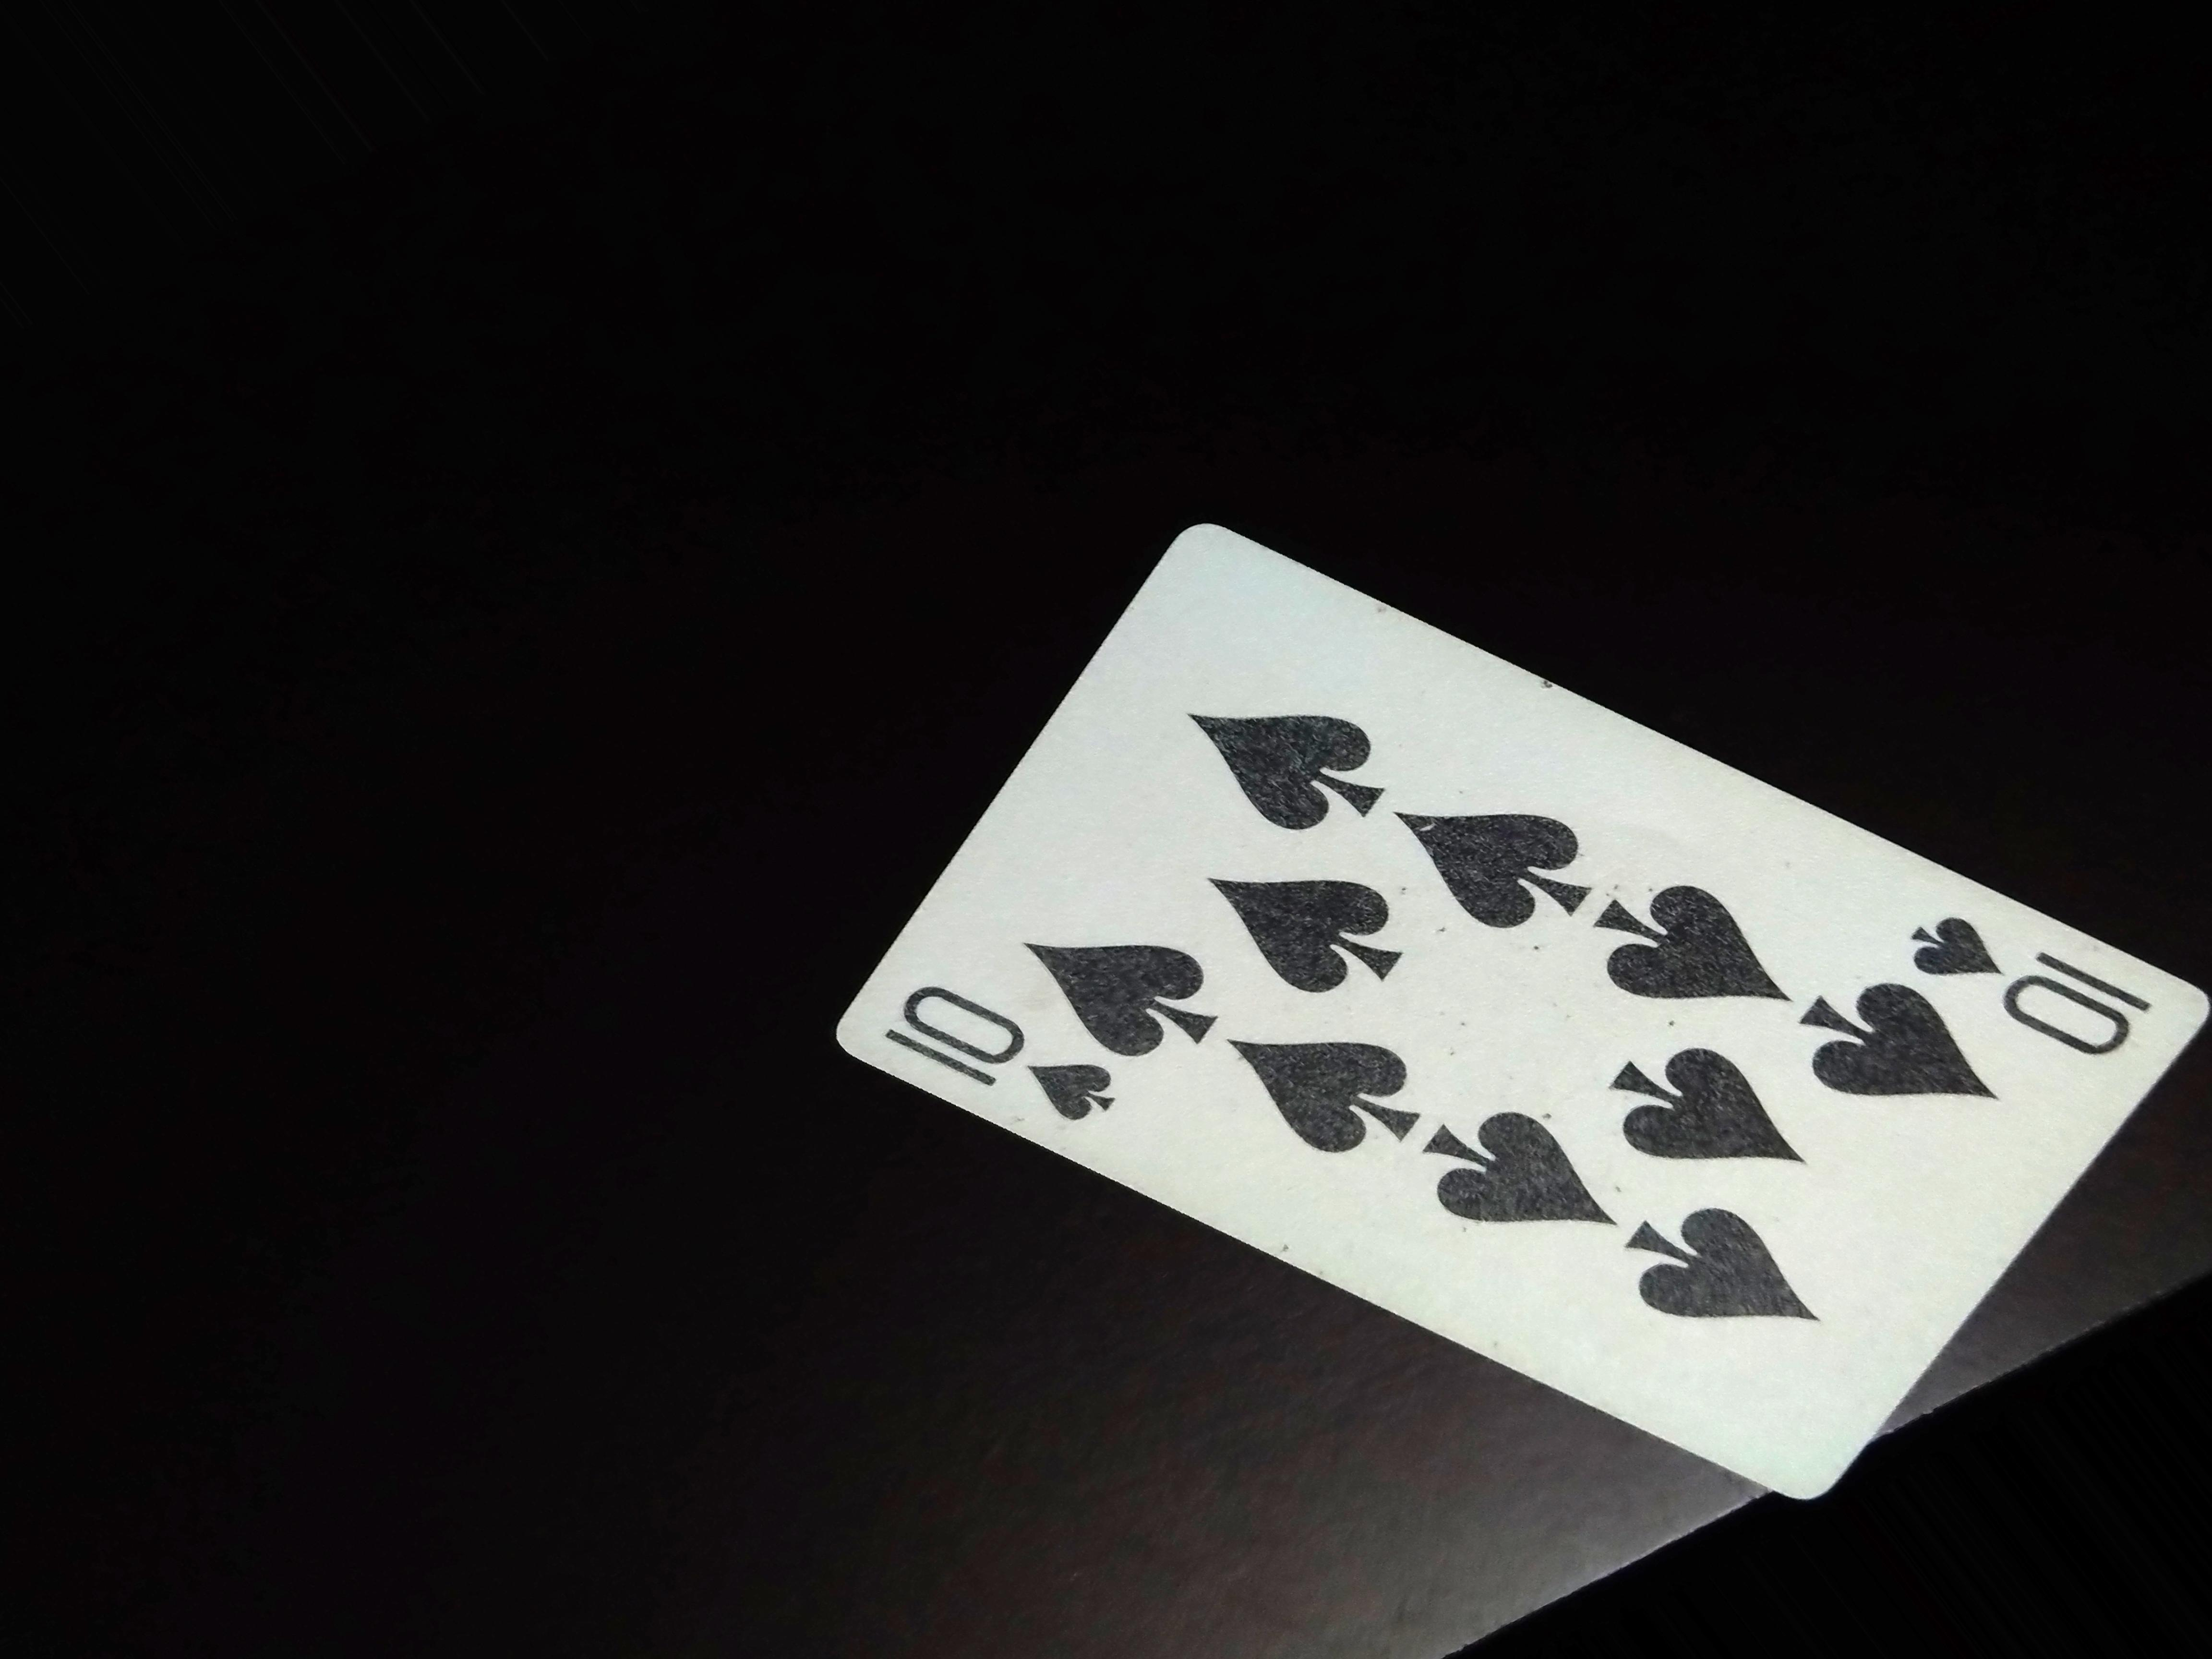10S: (860, 974, 1136, 1141)
